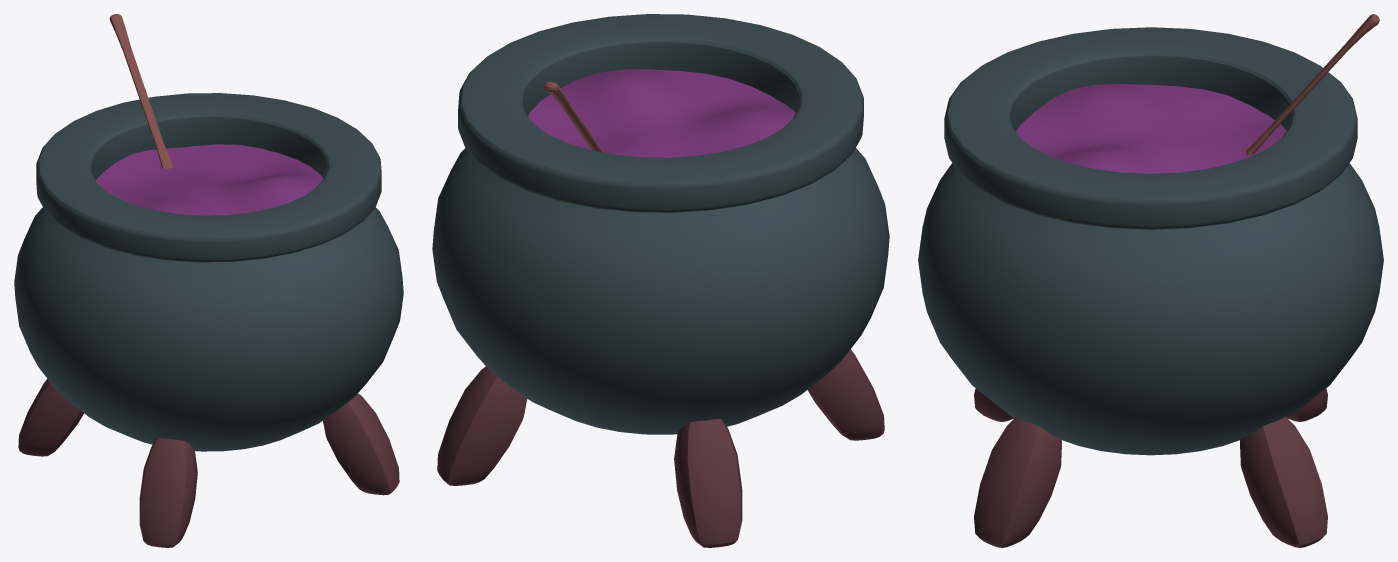
The model's file is Caldeirao.fbx.
3 views of the same model, side by side, from view 1: azimuth 30°, elevation 25°; view 2: azimuth 150°, elevation 25°; view 3: azimuth 270°, elevation 25° (orthographic). The views are drawn at different scales.
Parts seen in each view (by area): view 1: Caldeirao, Liquido, Cube.013; view 2: Caldeirao, Liquido, Cube.013; view 3: Caldeirao, Liquido, Cube.013.
Boxes of the visible parts, <box> form: Caldeirao: <box>14,93,403,547</box>; Liquido: <box>95,144,323,215</box>; Cube.013: <box>109,14,173,168</box>; Caldeirao: <box>432,14,889,547</box>; Liquido: <box>528,69,795,157</box>; Cube.013: <box>544,81,603,152</box>; Caldeirao: <box>918,27,1383,547</box>; Liquido: <box>1016,84,1286,173</box>; Cube.013: <box>1246,14,1379,155</box>.
Size of the model in its own units: 1.8 by 1.98 by 1.8.
